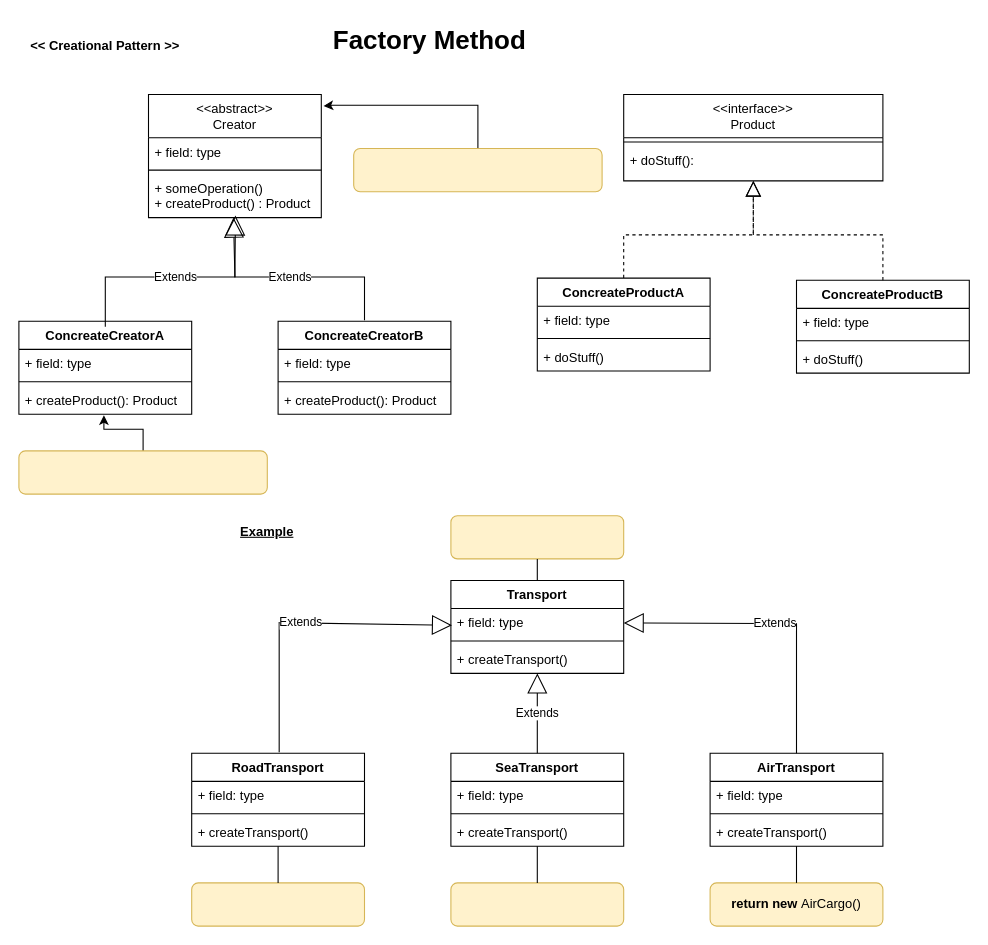
This 988x945 diagram has some shape labels left out. Here are the shapes that lost their labels. From the top down, the centre of each, then its label:
At (x=477, y=169): "Product p = createProduct() p.doStuff()".
At (x=142, y=472): "return new ConcreateProductA()".
At (x=537, y=537): "Transport t = createTransport()".
At (x=277, y=904): "return new Truck()".
At (x=537, y=904): "return new Ship()".
